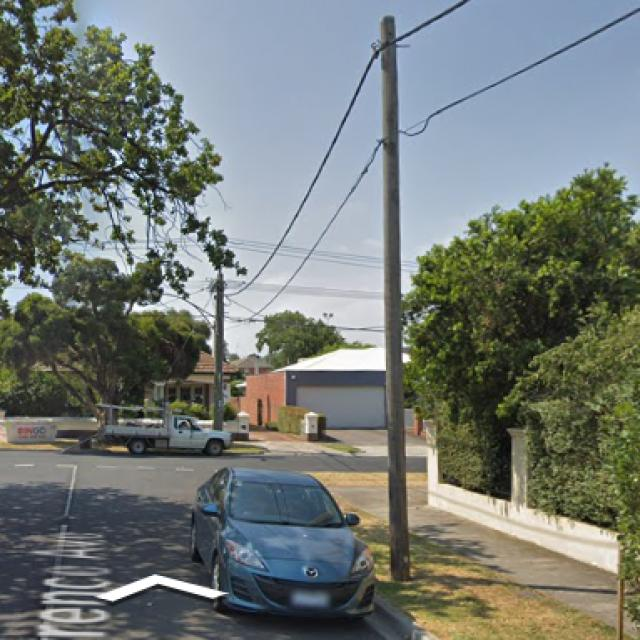timber-pole: (378, 14, 412, 581), (213, 270, 224, 432)
